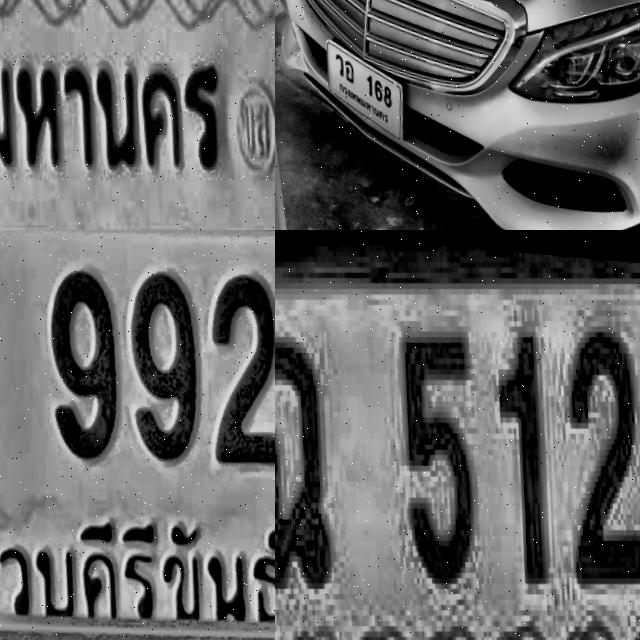license-plate: (275, 230, 640, 640), (0, 230, 275, 640), (0, 0, 275, 230), (323, 22, 412, 144)
